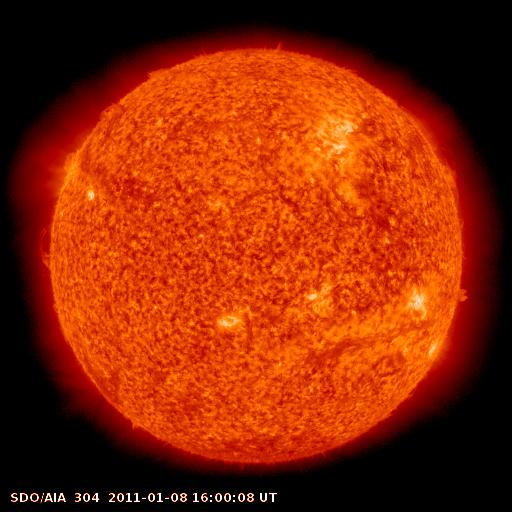prominence: (432, 154, 479, 223), (28, 213, 62, 275), (439, 273, 483, 317)
